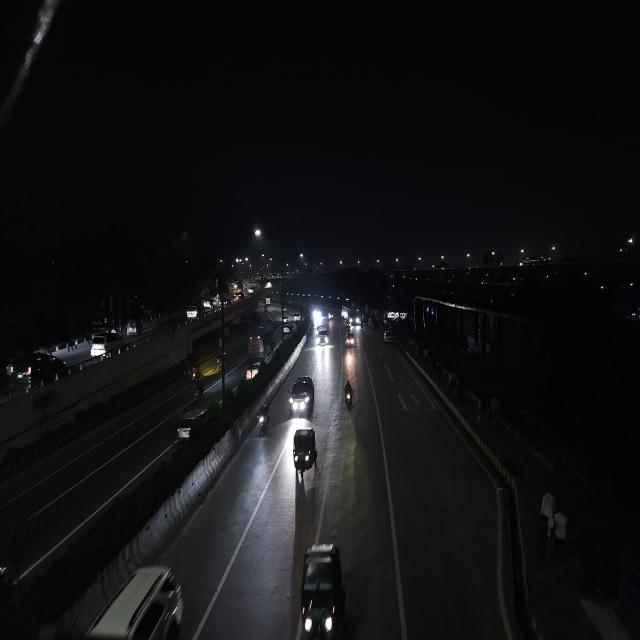bus: (247, 327, 274, 363), (284, 304, 301, 324), (348, 307, 359, 329), (229, 281, 243, 294)
car: (62, 561, 189, 640), (7, 350, 71, 391), (173, 406, 213, 442), (286, 373, 316, 419), (89, 330, 119, 354), (244, 358, 264, 383), (316, 325, 330, 347), (382, 328, 396, 346), (185, 303, 199, 321), (282, 320, 292, 337), (205, 298, 218, 311)
cng: (294, 538, 350, 640), (289, 423, 321, 484), (213, 349, 227, 374), (125, 320, 141, 336), (344, 334, 354, 349)
motorcycle: (255, 402, 272, 440), (341, 377, 356, 413), (193, 377, 207, 400), (188, 364, 202, 383)
pedestrian: (547, 504, 573, 565), (359, 318, 365, 333)
truck: (246, 328, 276, 362)
